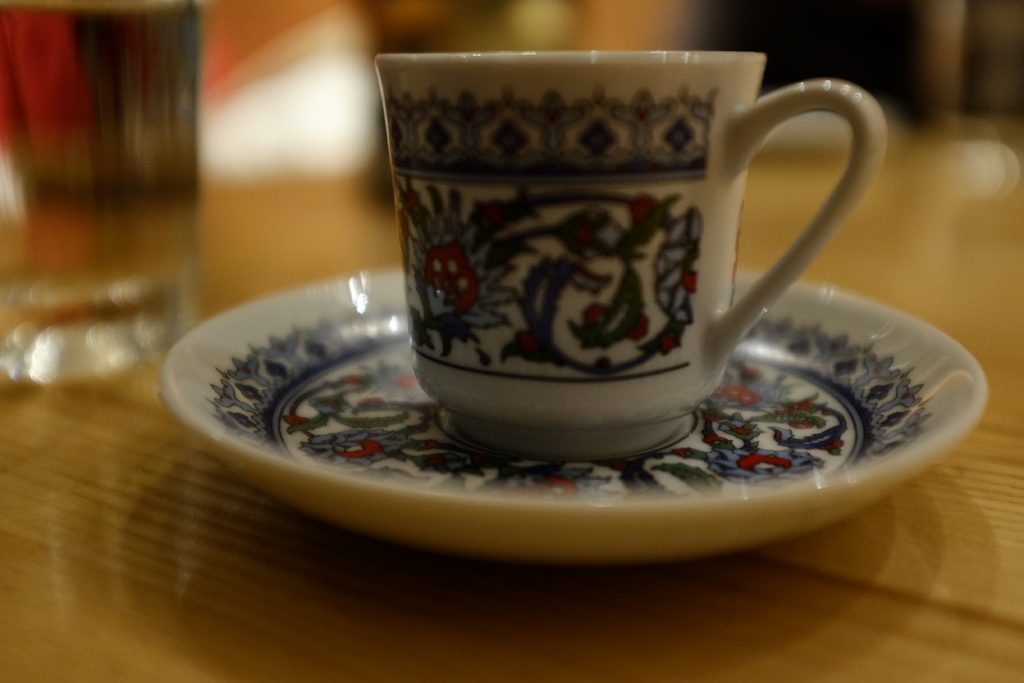plate: (163, 267, 986, 568)
